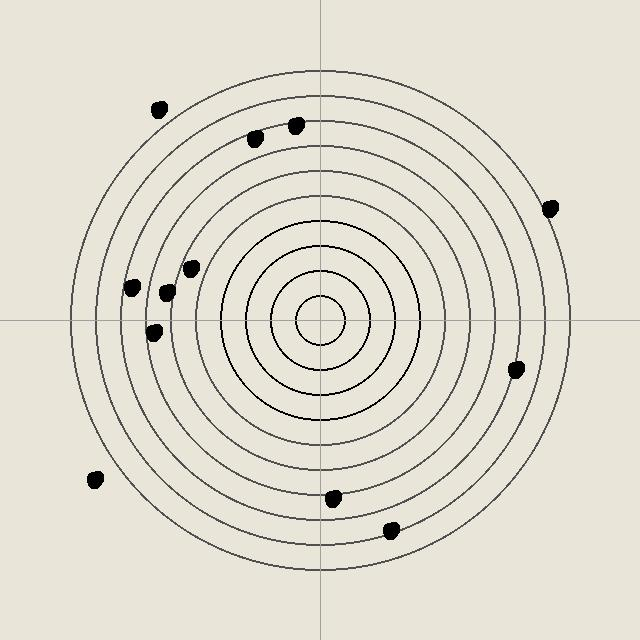random_scatter: (539, 198, 559, 218), (322, 488, 342, 508), (180, 258, 200, 278), (156, 282, 176, 302), (505, 359, 525, 379), (121, 277, 141, 297), (84, 469, 104, 489), (244, 128, 264, 148), (143, 322, 163, 342), (380, 520, 400, 540), (285, 115, 305, 135), (148, 99, 168, 119)
